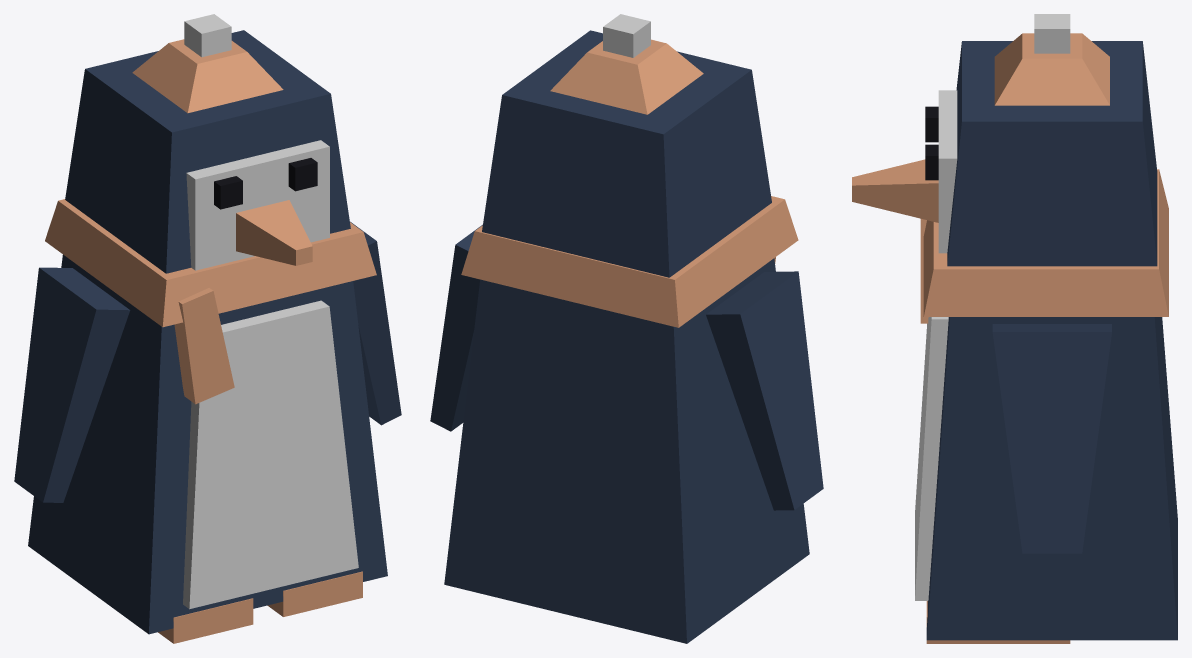
The model's file is penguin_guide.glb.
The picture shows the model from 3 angles, left to right: view 1: azimuth 30°, elevation 25°; view 2: azimuth 150°, elevation 25°; view 3: azimuth 270°, elevation 25°; orthographic projection. The views are drawn at different scales.
Visible parts, largest first — view 1: Body, RightWing, LeftWing; view 2: Body, RightWing, LeftWing; view 3: Body, LeftWing.
Part boxes in pixels (x1,y1,x2,y2): Body: [28, 14, 387, 643]; RightWing: [14, 267, 130, 502]; LeftWing: [350, 221, 401, 425]; Body: [444, 14, 809, 643]; RightWing: [706, 271, 823, 510]; LeftWing: [430, 224, 482, 431]; Body: [852, 14, 1177, 643]; LeftWing: [992, 324, 1111, 553].
Bounding box in the file's own units: 0.7198 × 1.06 × 0.545.
